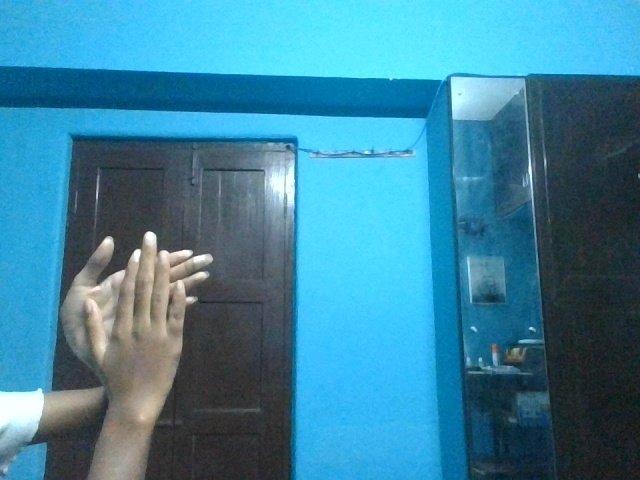H: (50, 226, 227, 401)
